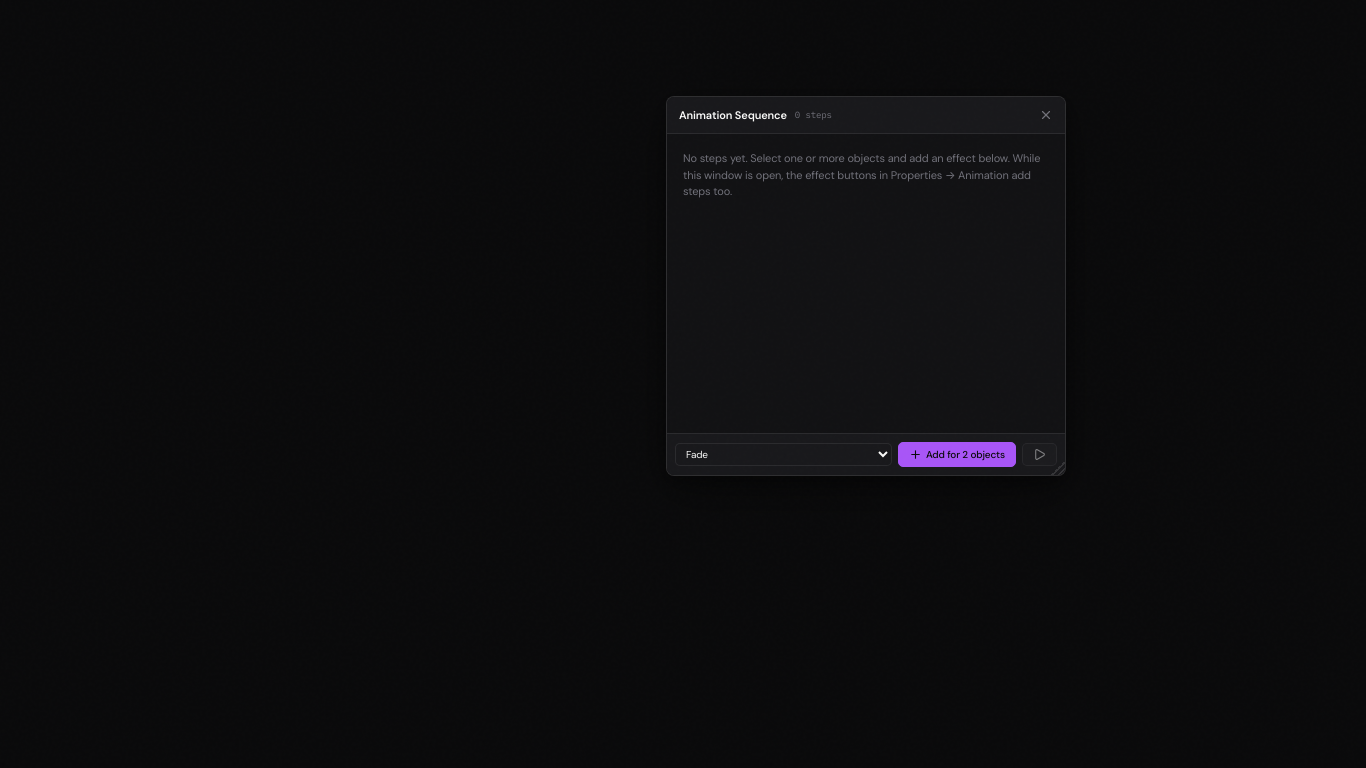
Test: AnimationSequenceWindow › turns the selection’s own keyframes into a clip step
This screenshot has width=1366, height=768.
Select "Own keyframes" in the dropdown named "Effect to add": point(783, 454) [675,443,892,466]
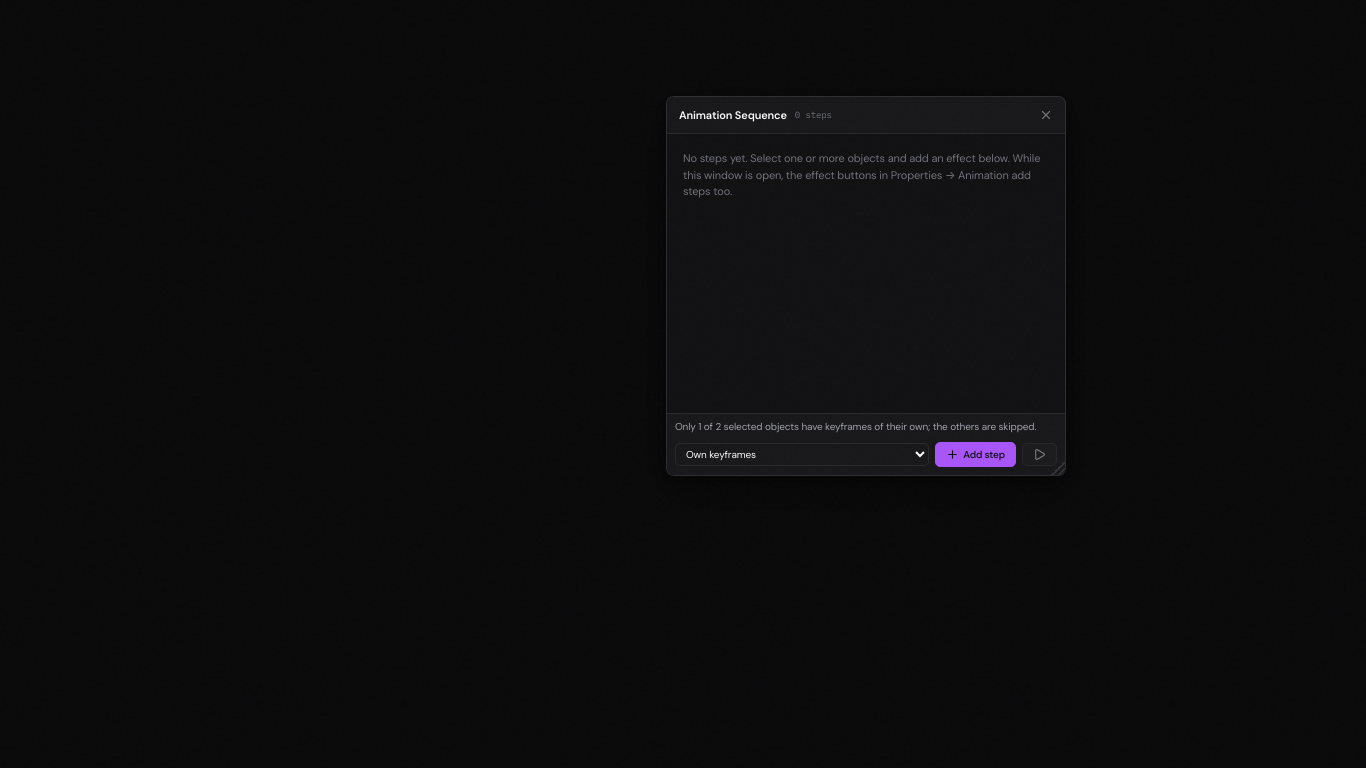
Note: Only "title" has keyframes of its own
Click the button "Add step": point(976, 454) [935,442,1016,467]
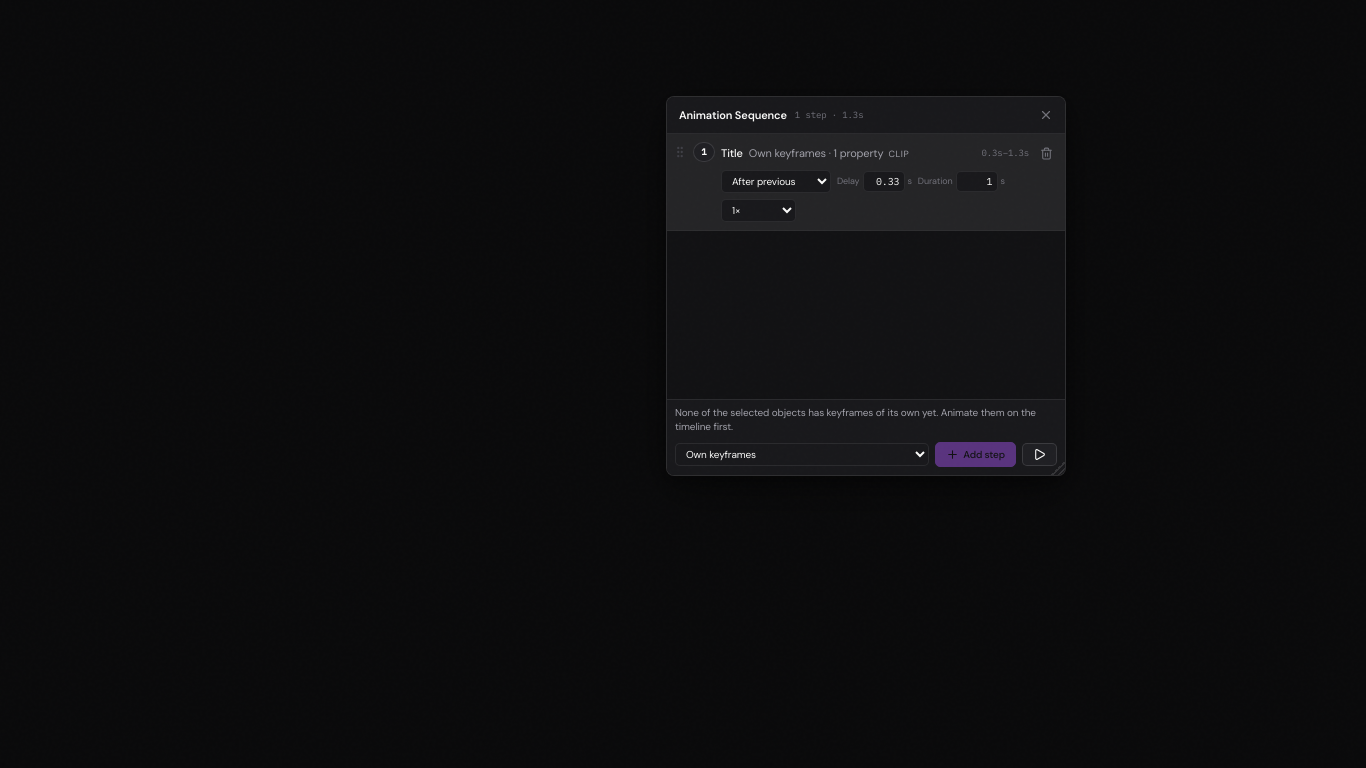
Expected: the dropdown named "Repeat step 1" is shown, [721,199,796,222]
